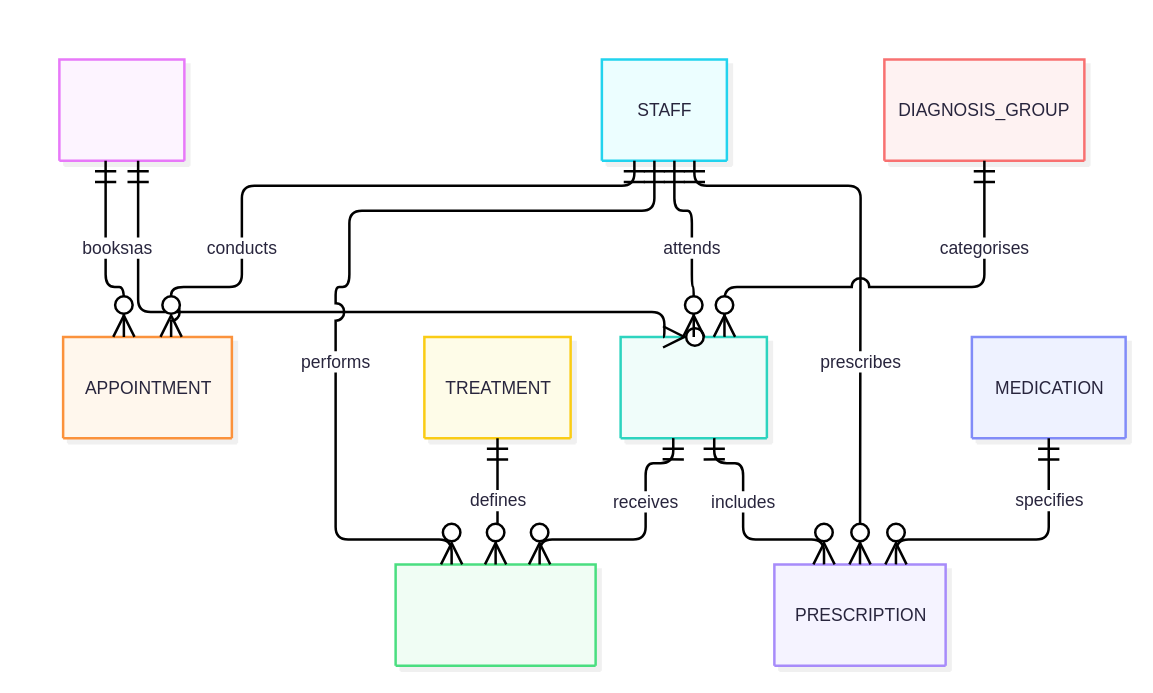
This 1153x693 diagram has some shape labels left out. The shapes that lost their labels are listed below. From the top down, each one's centre as x and y in pixels, then its label:
the point at 124,112: PATIENT
the point at 695,389: ADMISSION
the point at 497,616: ADMISSION_TREATMENT
